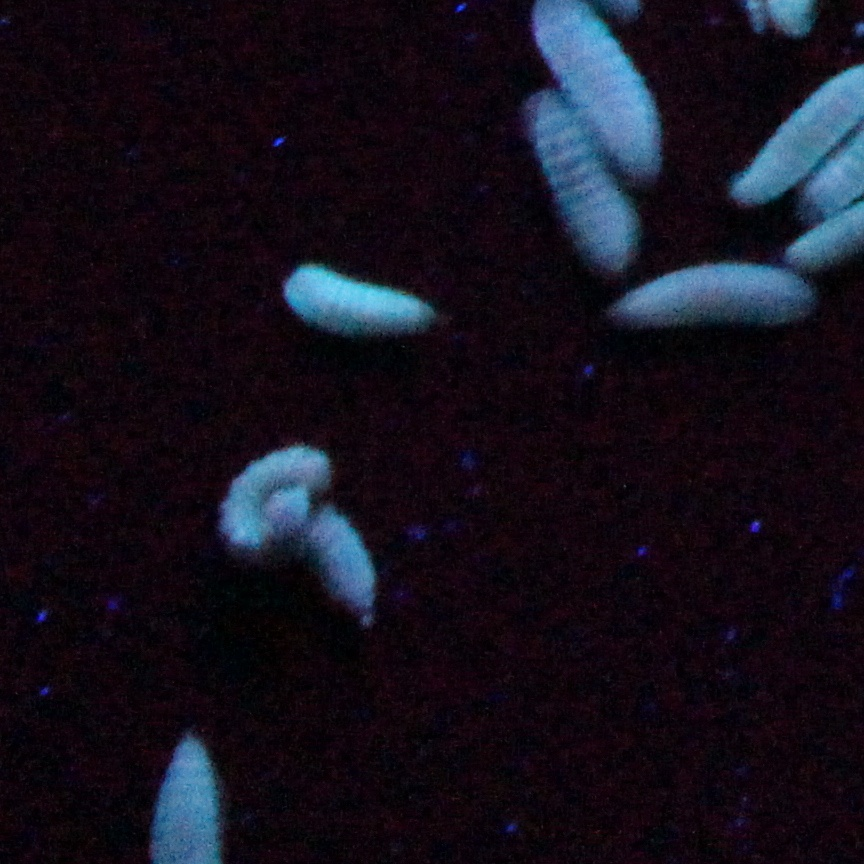larve: (521, 99, 633, 264), (613, 256, 819, 336), (284, 493, 386, 621), (288, 262, 452, 340), (227, 448, 331, 552)
